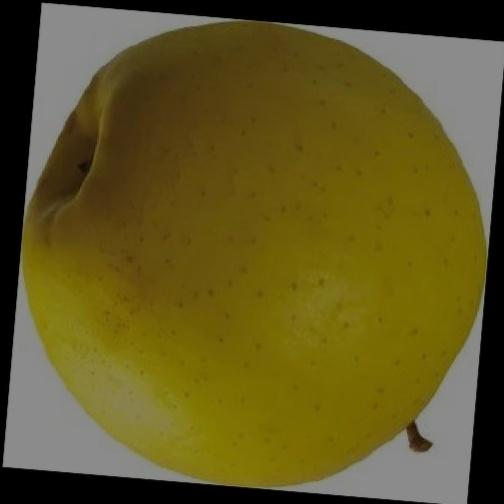green apple: (22, 21, 479, 484)
